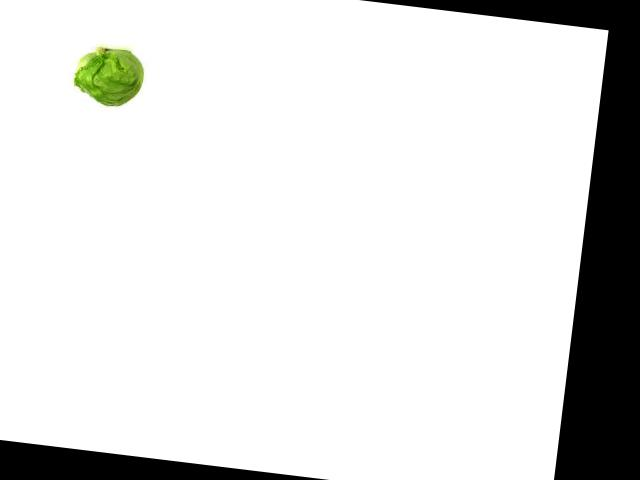lettuce: (63, 43, 152, 116)
